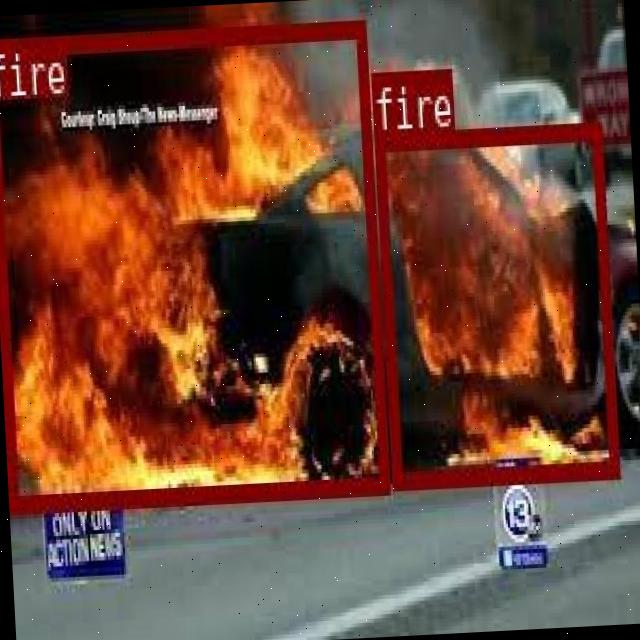fire: (0, 18, 387, 509), (374, 122, 618, 486)
